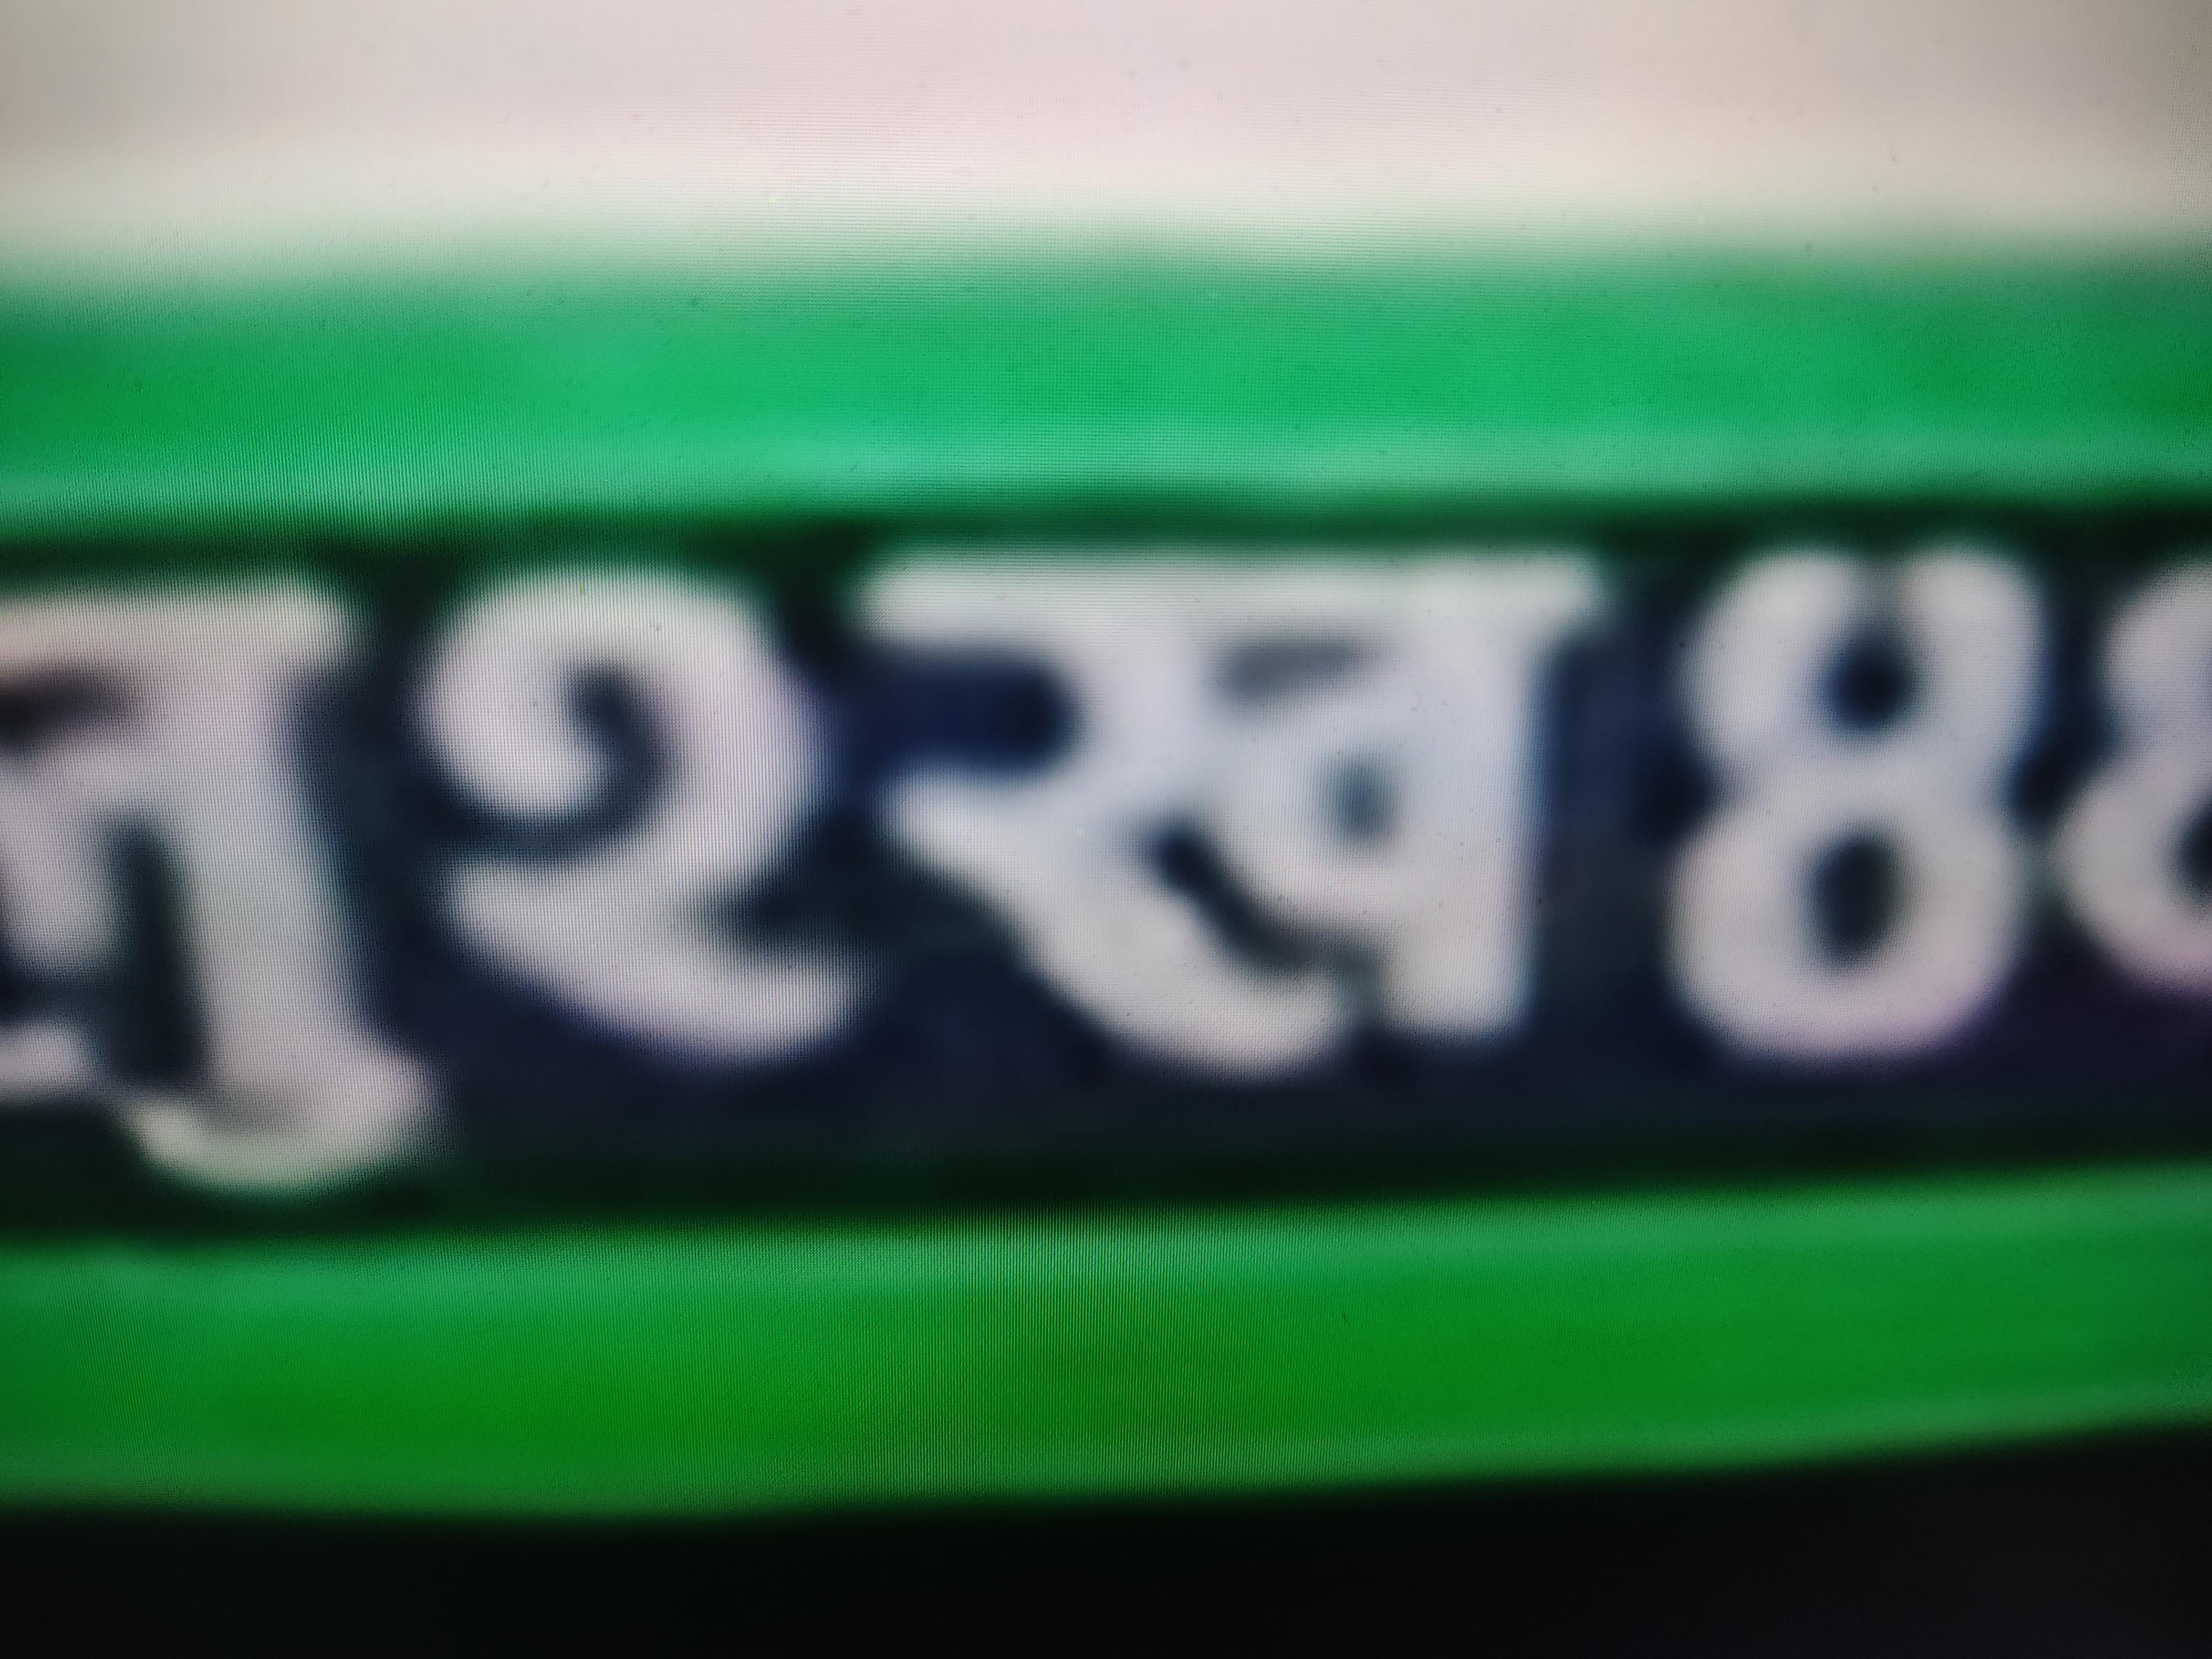2: (360, 537, 812, 1139)
4: (1619, 497, 2104, 1113)
kha: (821, 493, 1662, 1160)
